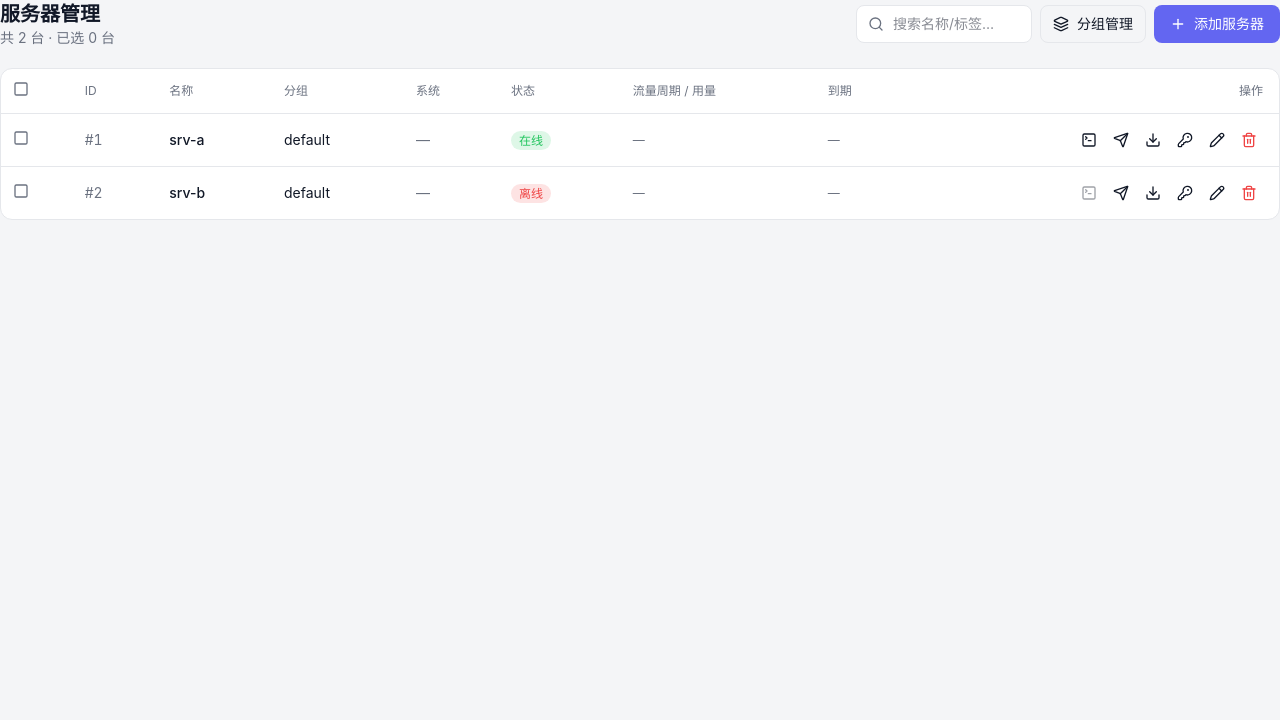
Scenario: Servers batch operations › batch config pushes capabilities and returns per-server results
Expected: the text "srv-a" is shown, [153, 114, 268, 166]
Expected: the table is shown, [1, 114, 1279, 219]
Click the button without text in the row of "srv-a": {"x": 21, "y": 138} [13, 130, 29, 146]
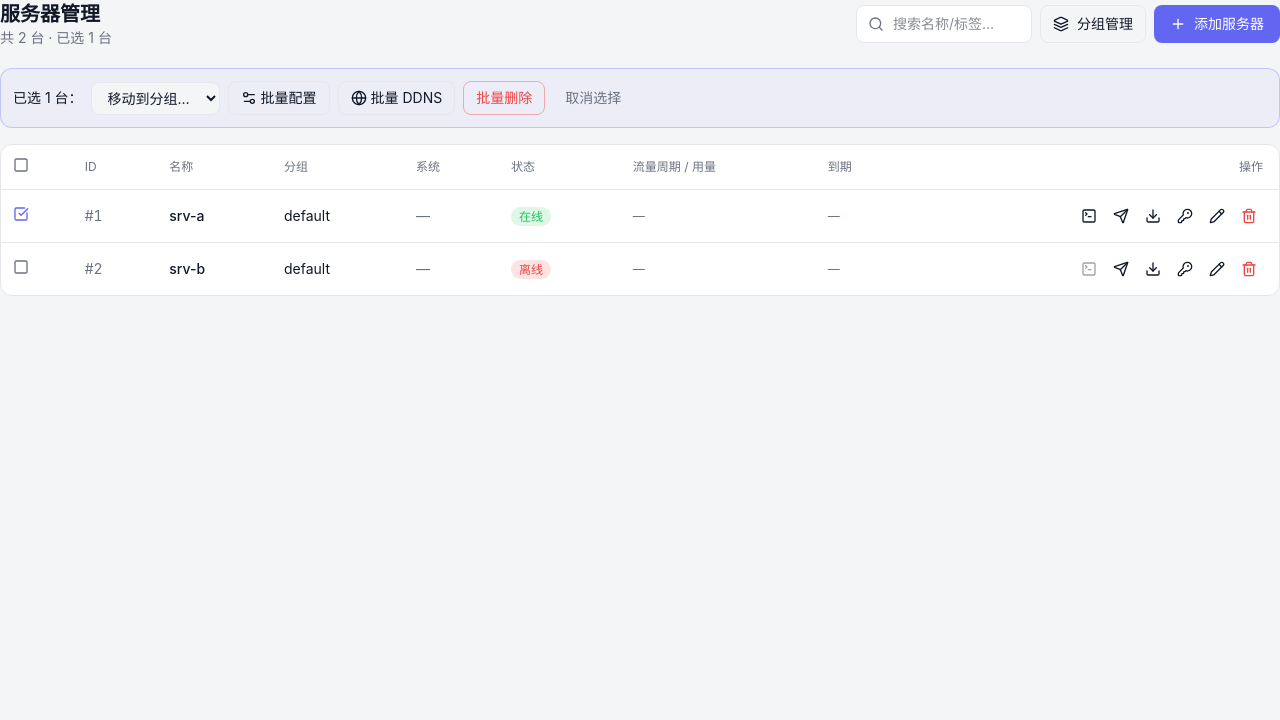
Click the button without text in the row of "srv-b": {"x": 21, "y": 266} [13, 258, 29, 274]
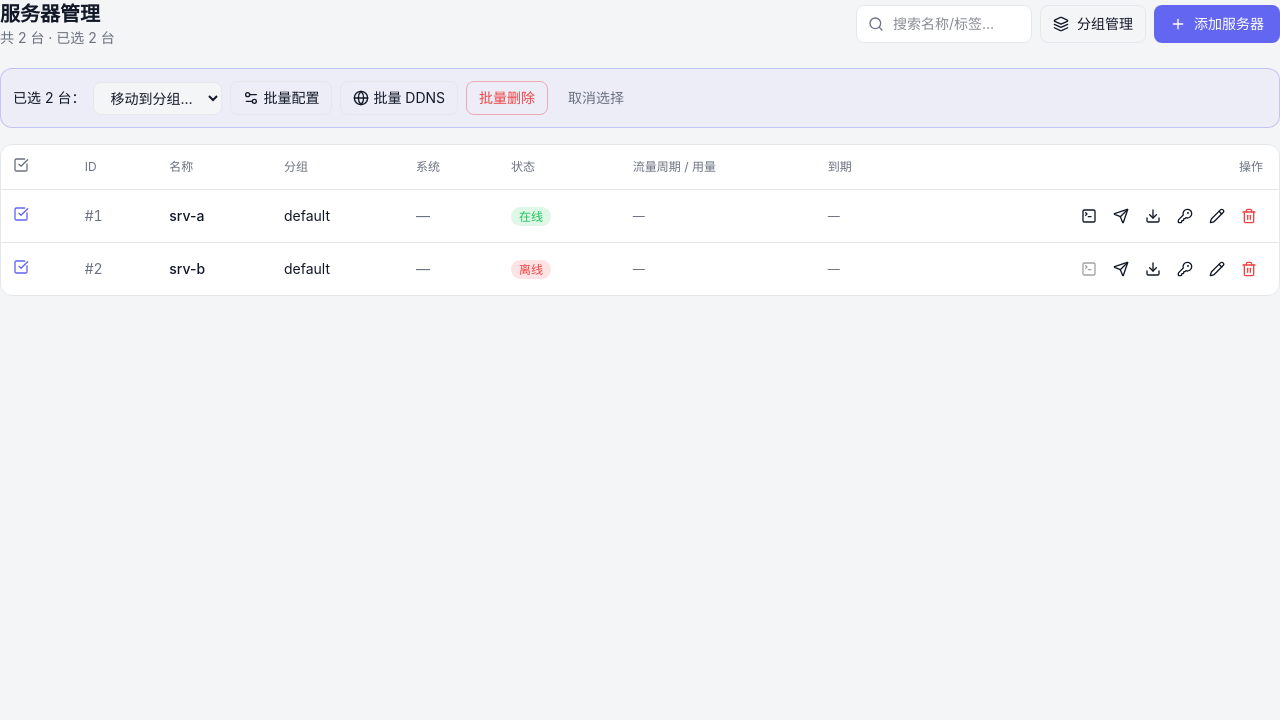
Click the button "批量配置": {"x": 281, "y": 98} [230, 81, 332, 115]
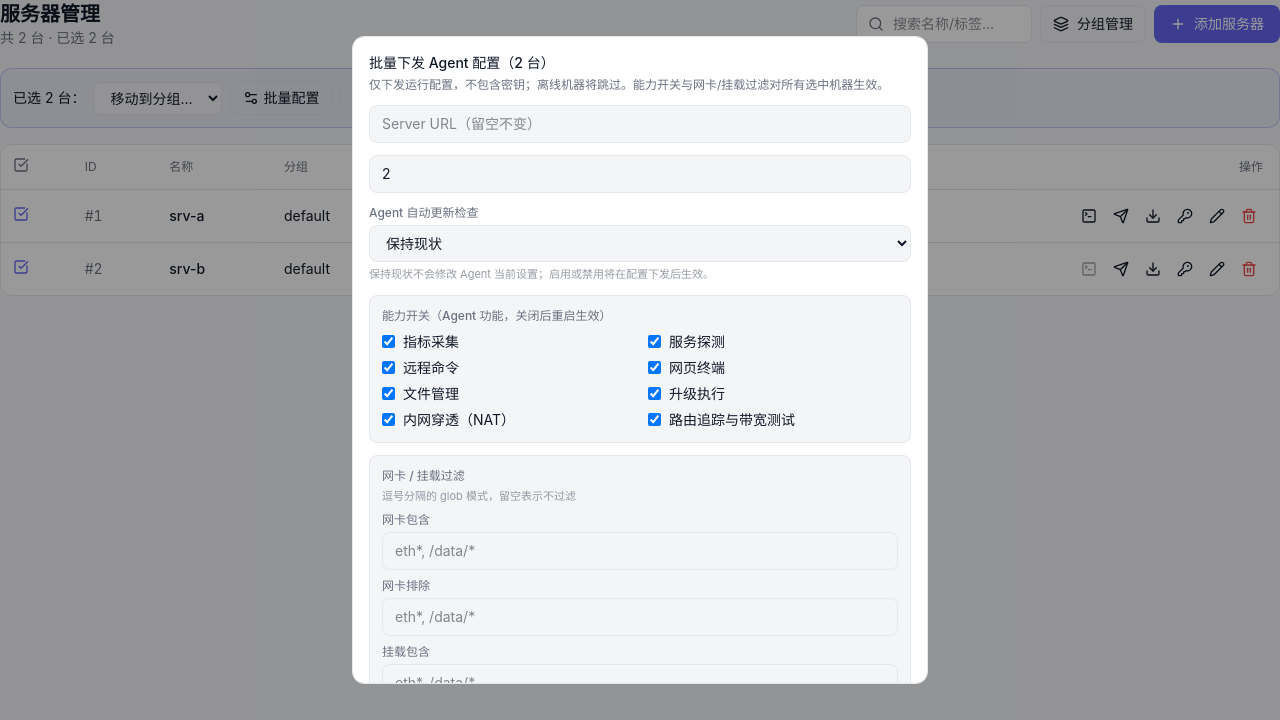
Replace the text in the number field with placeholder "上报间隔（秒）" with "5": {"x": 640, "y": 174} [369, 155, 911, 193]
(page scrolled)
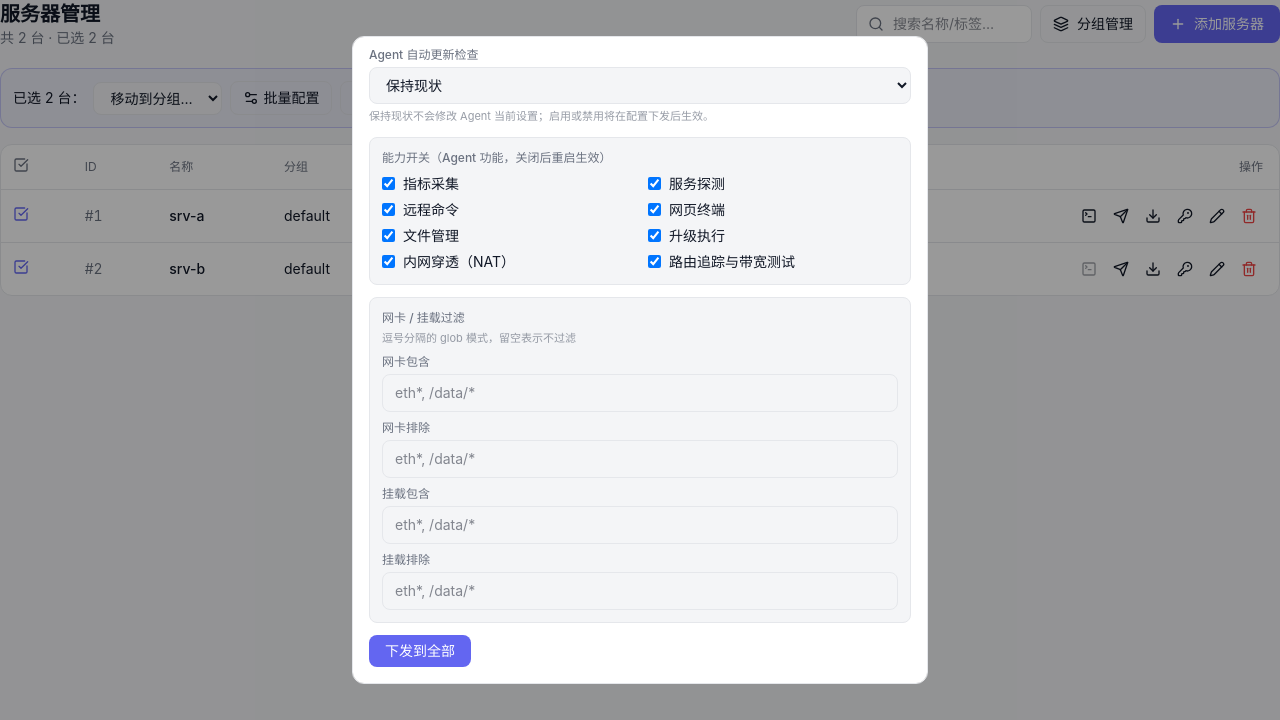
Click the button "下发到全部": {"x": 420, "y": 651} [369, 635, 471, 667]
(page scrolled)
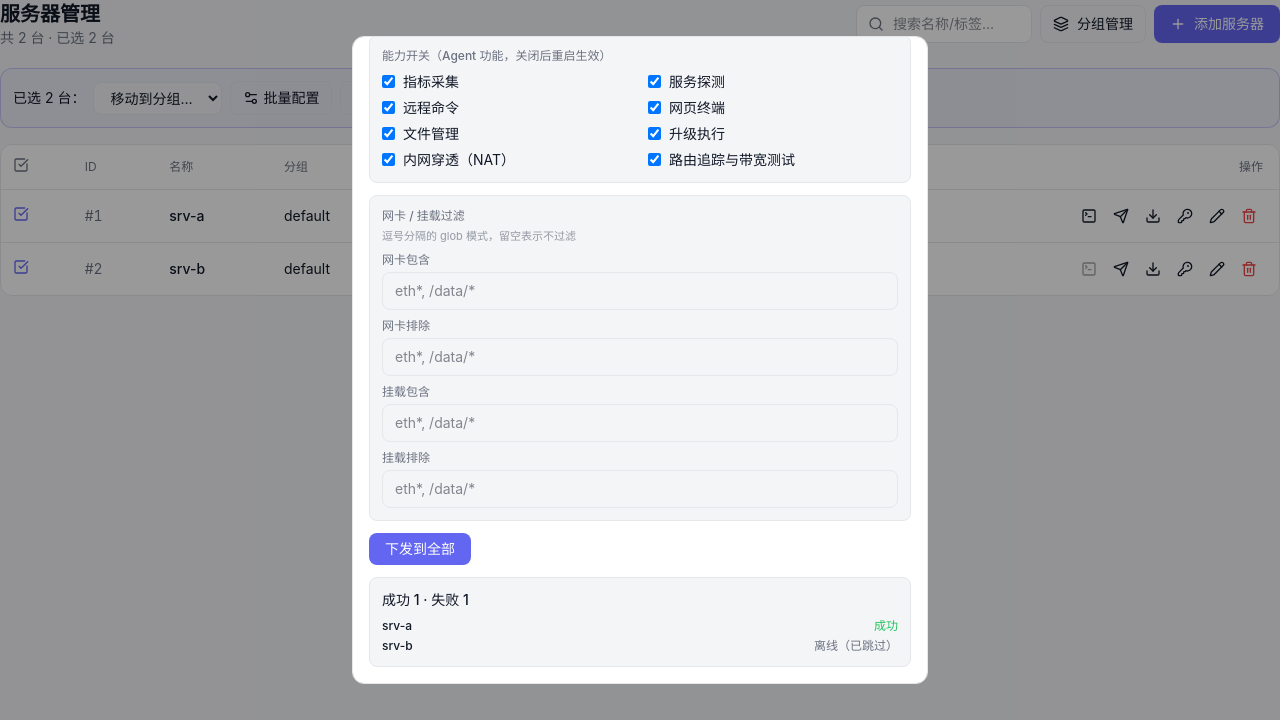
Expected: the text "成功 1 · 失败 1" is shown, [382, 591, 469, 608]
Expected: the text "离线（已跳过）" is shown, [814, 638, 898, 654]
